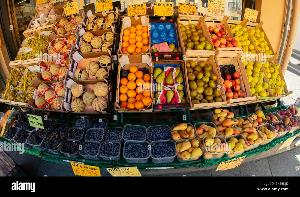apple: (242, 57, 288, 98), (228, 22, 276, 54), (216, 58, 246, 98), (209, 23, 237, 52)
grape: (2, 63, 36, 103), (44, 116, 84, 150), (9, 112, 40, 146), (16, 35, 48, 61), (150, 140, 176, 160), (122, 142, 150, 160), (146, 125, 172, 141), (124, 124, 148, 140), (101, 142, 121, 160), (82, 142, 98, 156), (106, 128, 122, 140), (87, 130, 103, 142), (92, 118, 104, 128)
melon: (72, 81, 110, 112), (32, 82, 68, 110), (77, 57, 111, 81), (82, 34, 117, 53), (55, 13, 85, 35), (84, 12, 120, 30), (40, 60, 72, 80), (48, 34, 76, 52)
orange: (118, 55, 152, 109), (122, 16, 150, 53)
pear: (187, 58, 221, 110), (154, 63, 184, 105), (174, 22, 216, 50), (150, 23, 180, 55), (178, 142, 202, 160), (170, 124, 195, 138), (205, 138, 223, 154), (237, 114, 253, 132), (244, 129, 262, 145), (225, 137, 247, 150), (197, 124, 219, 136), (247, 110, 265, 124), (260, 122, 274, 138), (220, 124, 238, 136), (216, 110, 232, 122)
